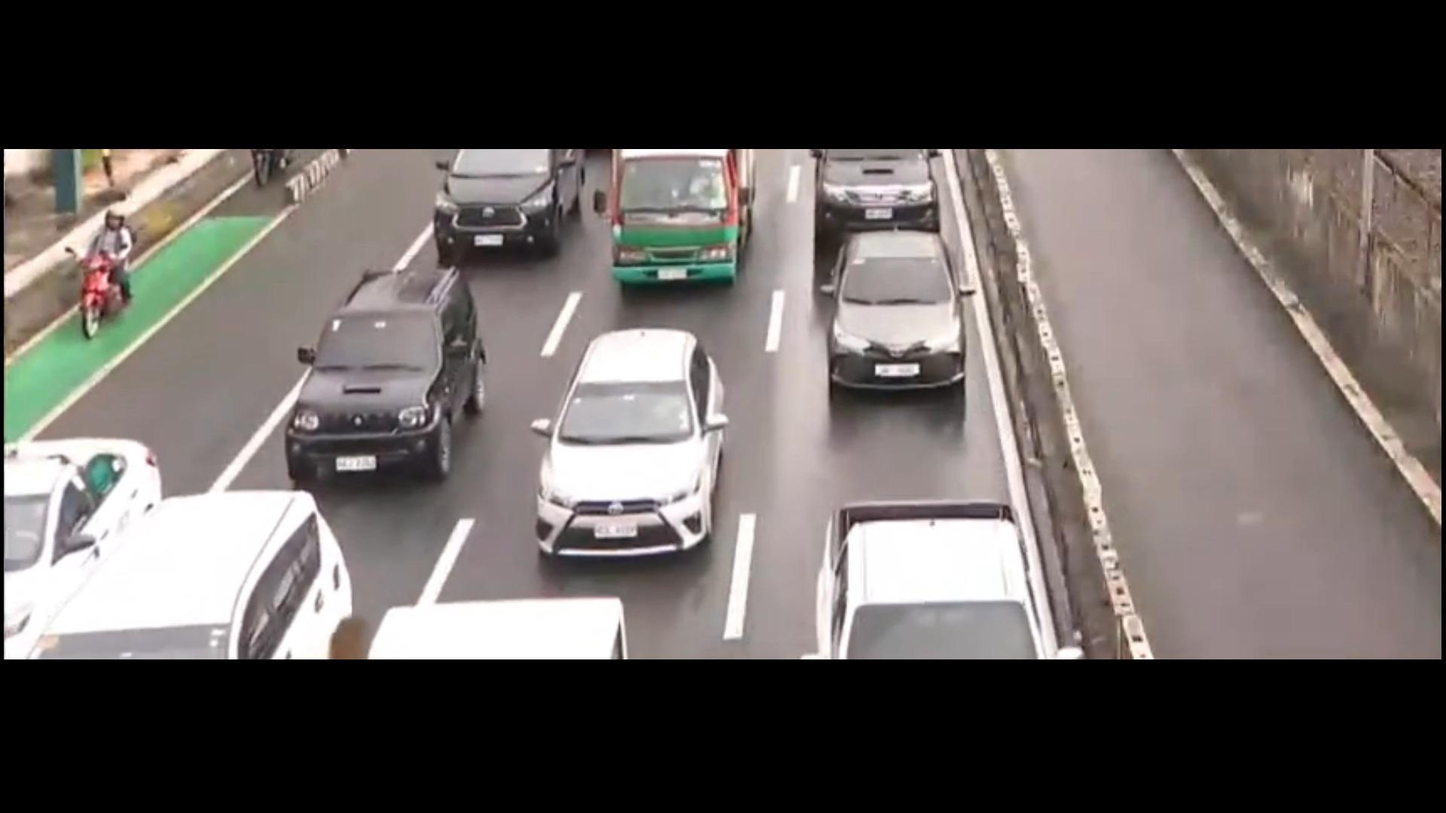Motorcycle: (52, 200, 170, 387)
Pickup: (820, 465, 1060, 670)
SUV: (498, 309, 763, 575), (9, 465, 364, 654), (290, 254, 488, 497), (802, 221, 974, 425)
Sedan: (0, 414, 209, 628)
